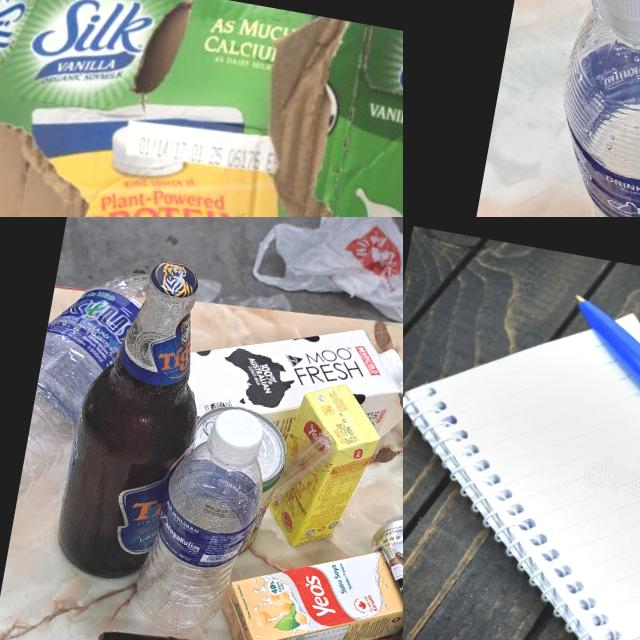caixinha: (176, 300, 403, 460), (259, 374, 386, 559), (210, 526, 403, 640)
garrafa de vidro: (51, 249, 226, 590)
garrafa plástica: (17, 258, 151, 516), (127, 433, 270, 640), (527, 0, 640, 217)
lata: (175, 401, 292, 561), (349, 510, 403, 640)
papel: (403, 271, 640, 640)
papelão: (0, 0, 403, 217)
sacola plástica: (247, 217, 403, 329)
tampa plástica: (208, 406, 266, 468), (379, 347, 403, 383)
